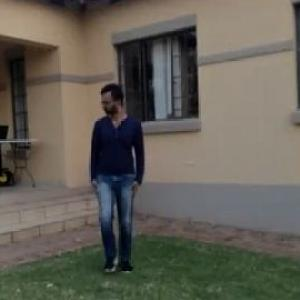follow: (86, 77, 142, 276)
